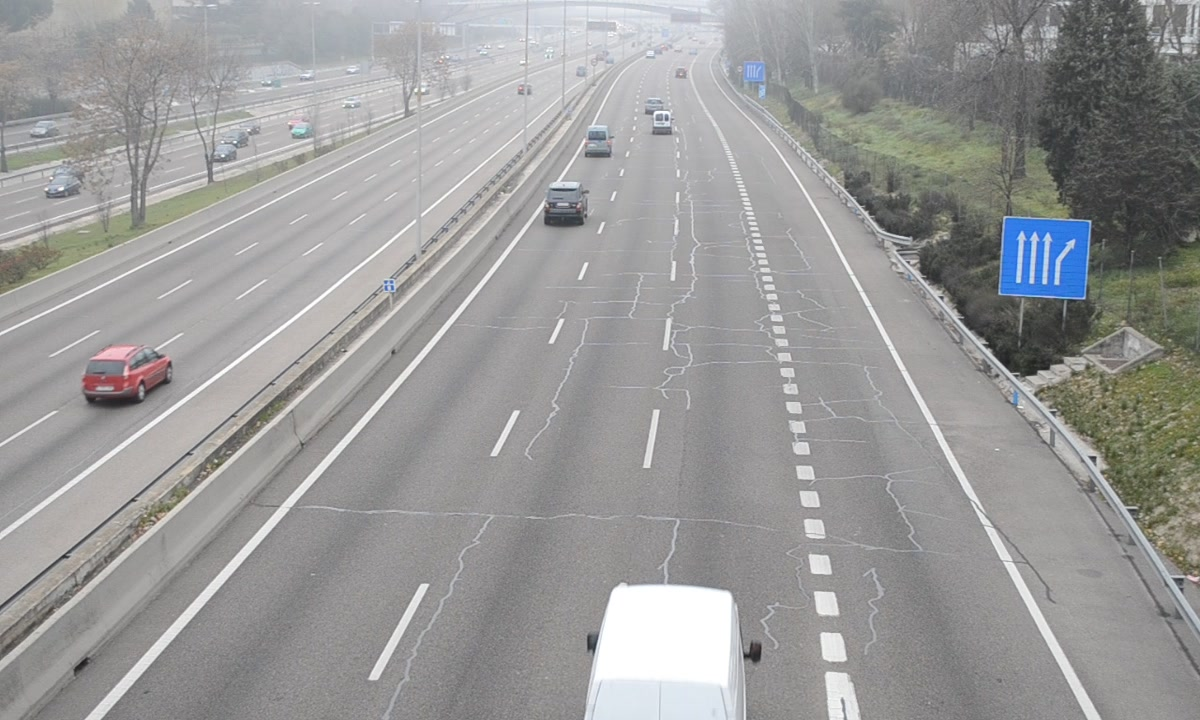car: (545, 181, 587, 223)
van: (584, 583, 747, 720), (584, 123, 612, 158)
